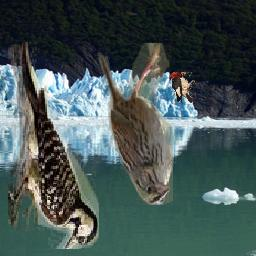Sparrow: (95, 43, 173, 205)
Woodpecker: (9, 43, 100, 250), (171, 71, 196, 103)
